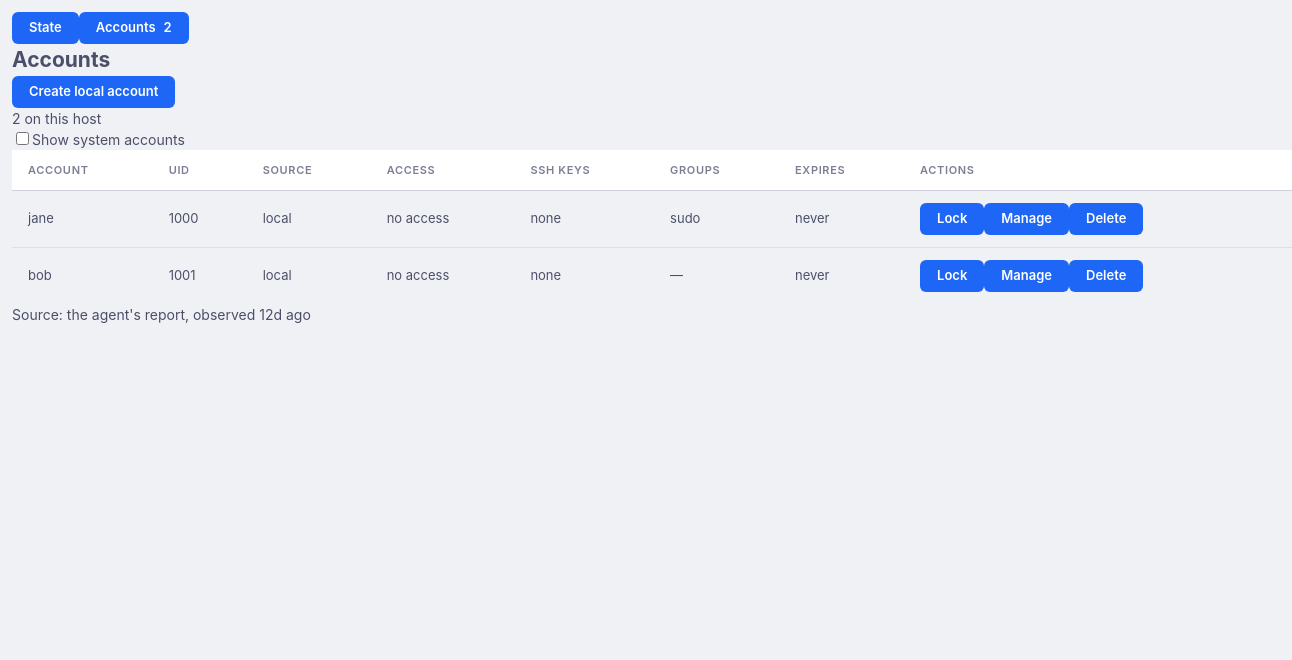
Test case: where one account opens › puts the keys, the groups and the expiry under the account's own row
Click the button with test id "manage-jane" at point(1027, 219), box [984,203,1069,235]
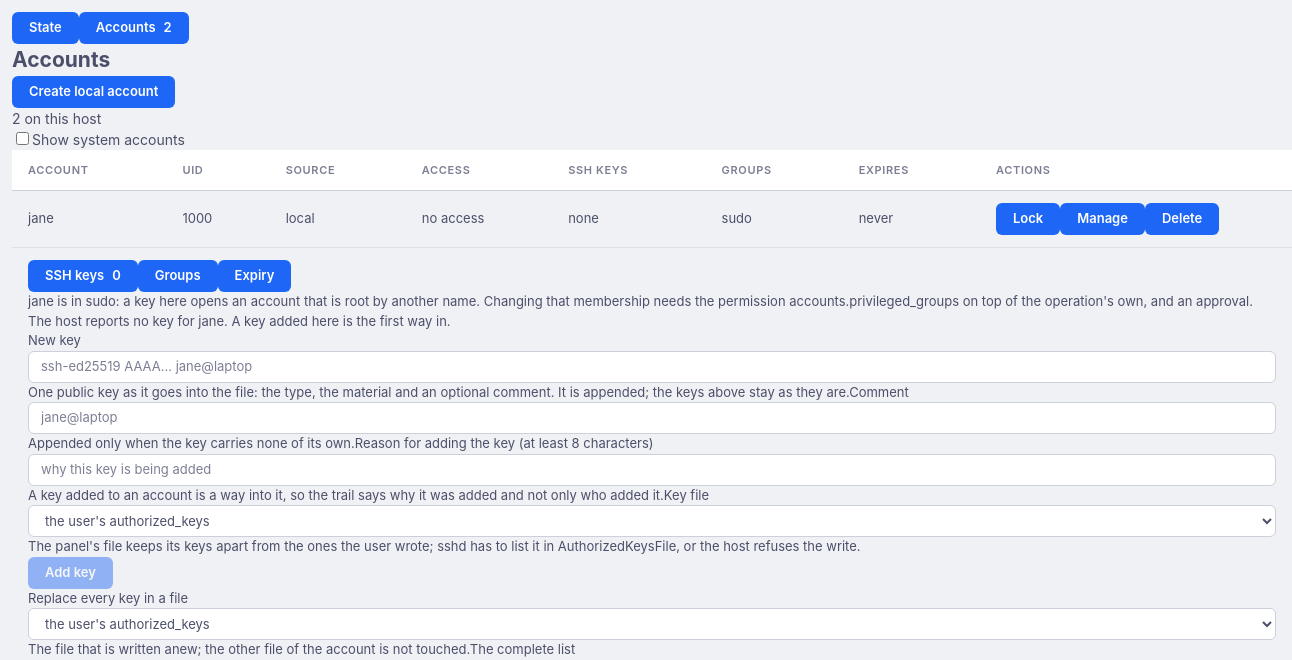
Check: the tab "Groups" is shown, box [138,260,218,292]
Check: the tab "Expiry" is shown, box [218,260,291,292]
